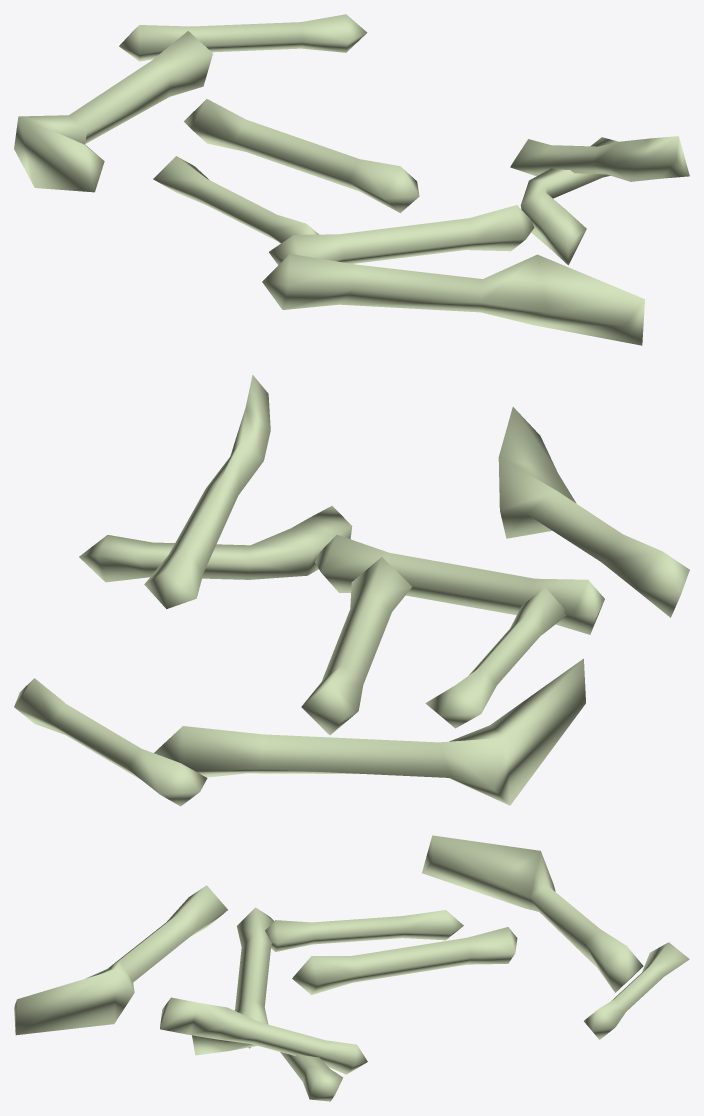
3 renders of one model, top to bottom at view 1: azimuth 30°, elevation 25°; view 2: azimuth 150°, elevation 25°; view 3: azimuth 270°, elevation 25°, orthographic. The views are drawn at different scales.
Visible parts, largest first — view 1: Object18; view 2: Object18; view 3: Object18.
Boxes of the visible parts, <box> form: Object18: <box>14,14,689,345</box>; Object18: <box>14,375,689,806</box>; Object18: <box>14,835,689,1101</box>.
Bounding box in the file's own units: 108 × 25.57 × 157.
